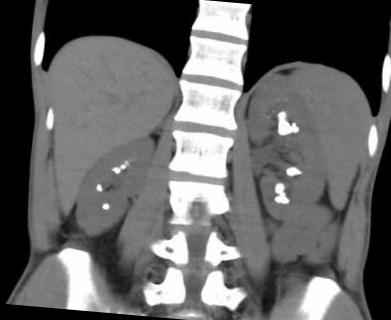Tas_Var: (271, 108, 293, 138), (270, 191, 294, 208), (282, 164, 307, 180), (270, 182, 290, 196), (288, 120, 300, 134), (110, 165, 122, 176), (93, 182, 104, 193), (99, 202, 110, 212), (121, 160, 132, 170), (116, 162, 127, 170), (127, 158, 135, 164)
